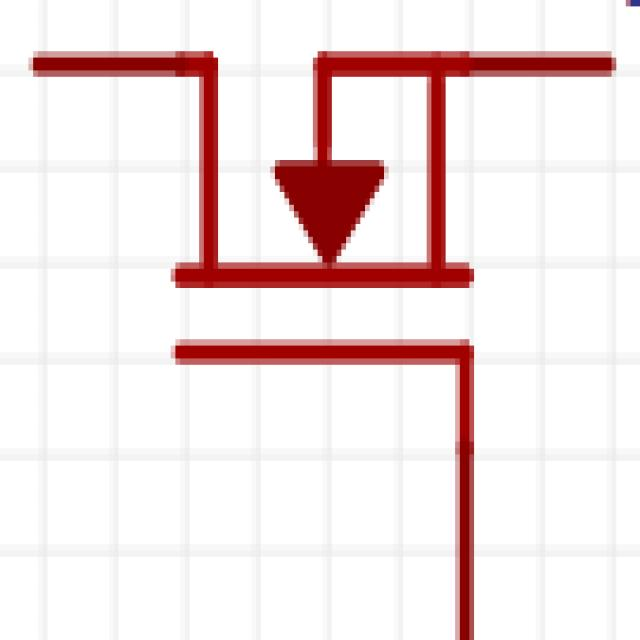nmos: (28, 16, 598, 628)
